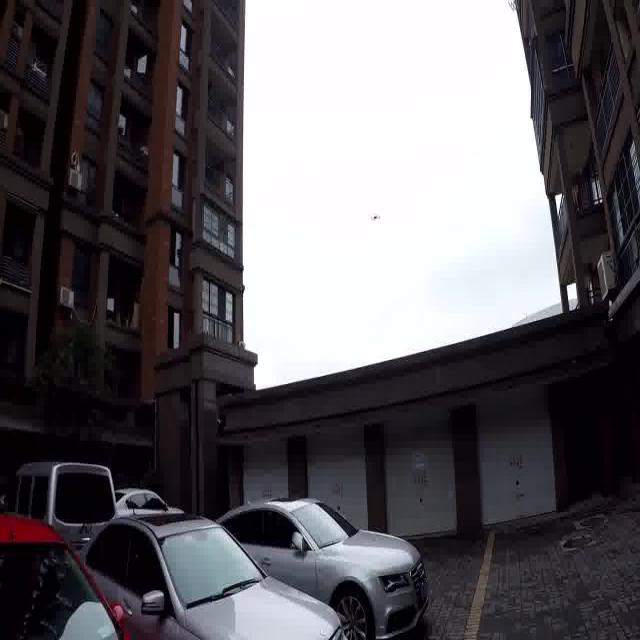drone: (358, 184, 382, 235)
